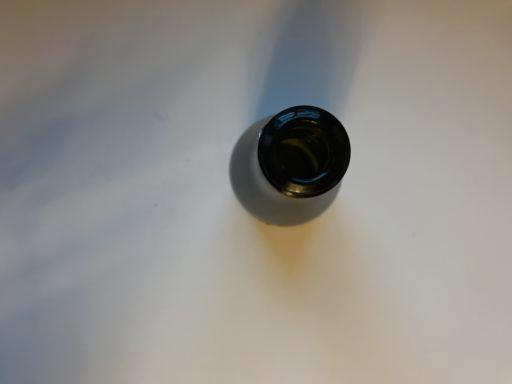plastic: (227, 104, 352, 228)
